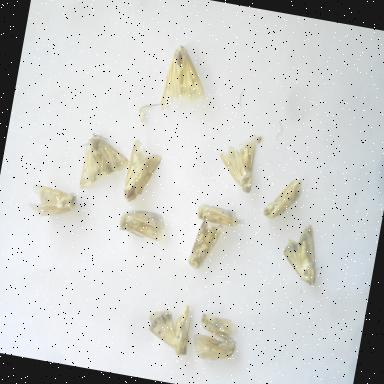abw: (66, 128, 136, 200), (156, 39, 216, 119), (118, 134, 172, 216), (276, 218, 332, 292), (210, 126, 264, 198), (140, 295, 198, 361), (182, 211, 230, 281), (108, 200, 169, 248), (22, 179, 81, 226), (260, 171, 306, 227), (186, 323, 242, 369), (192, 198, 252, 234), (194, 306, 242, 346)
